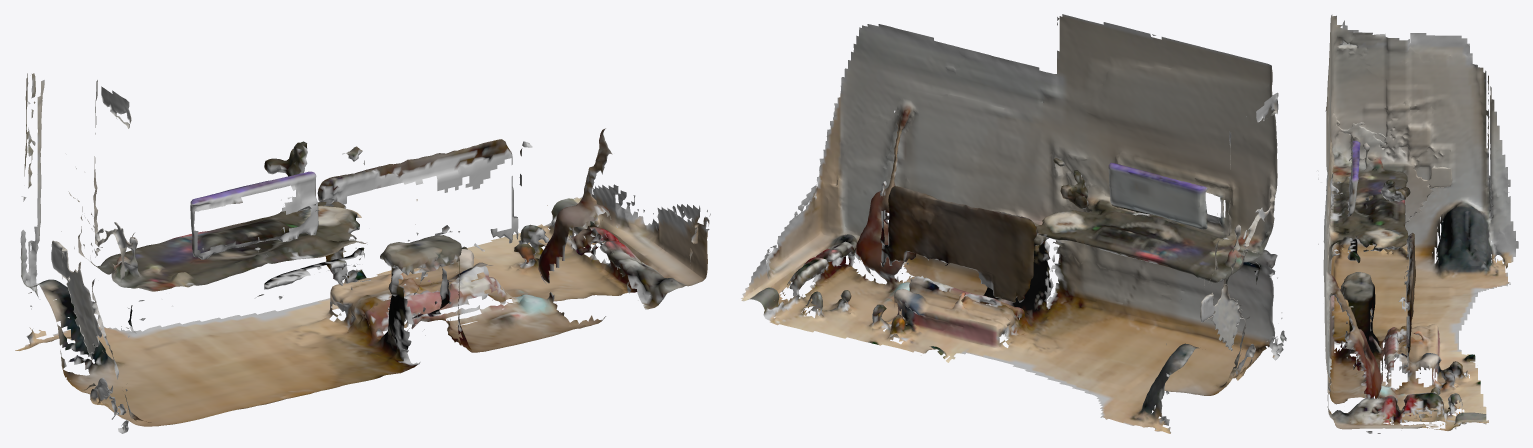
File: room_authoring.glb
3 renders of one model, left to right at view 1: azimuth 30°, elevation 25°; view 2: azimuth 150°, elevation 25°; view 3: azimuth 270°, elevation 25°, orthographic. The views are drawn at different scales.
Bounding box in the file's own units: 3.38 × 2.02 × 1.5.
